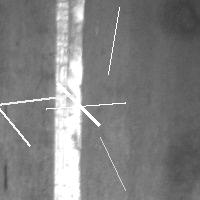scratches: (49, 1, 87, 199), (52, 78, 104, 130), (95, 132, 130, 195), (0, 91, 35, 151), (0, 90, 78, 111), (103, 2, 124, 79), (41, 98, 130, 114)
